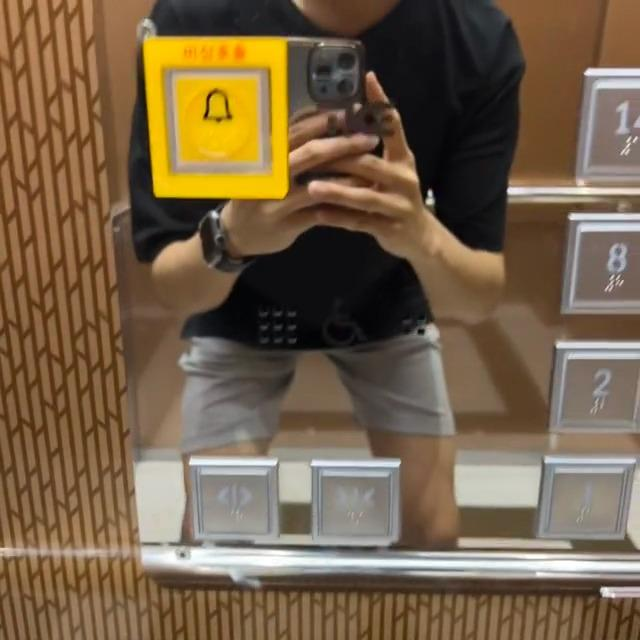button: (145, 48, 282, 206), (312, 456, 407, 546), (195, 457, 281, 552), (563, 348, 639, 446), (572, 213, 640, 321)
